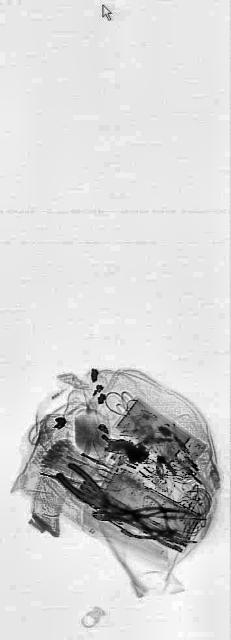Pliers: (91, 488, 182, 552), (56, 449, 114, 523), (128, 502, 190, 540)
